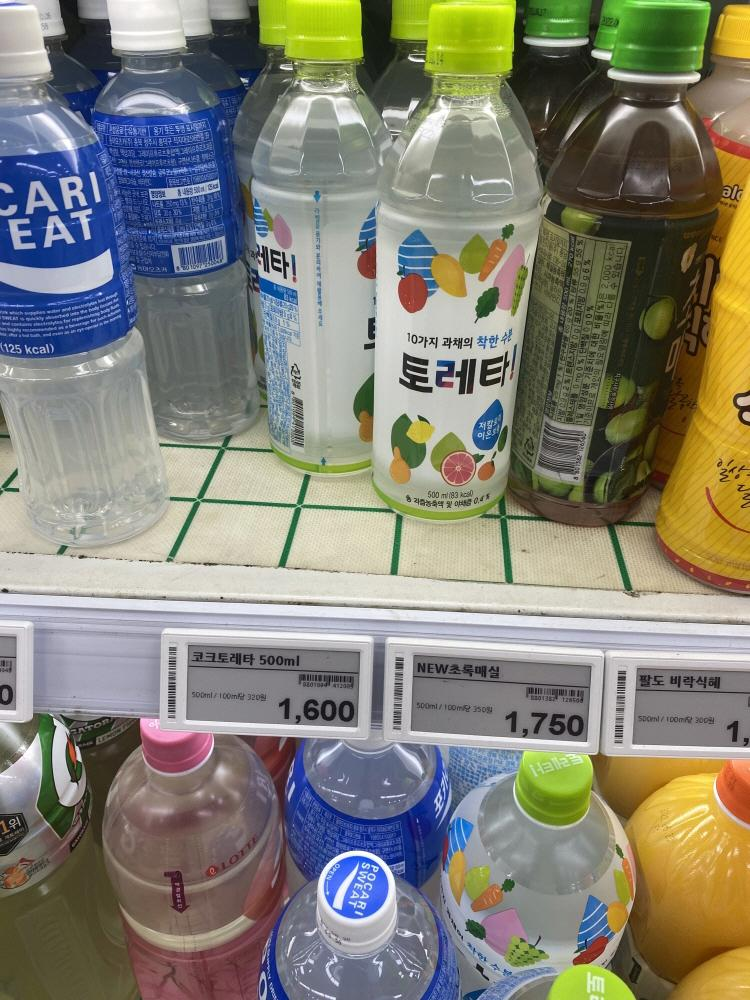pocarisweat: (0, 0, 181, 538)
toreta: (376, 0, 522, 558)
